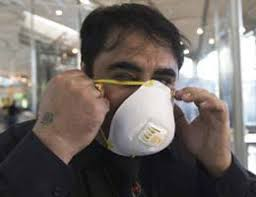flumask: (112, 79, 180, 158)
